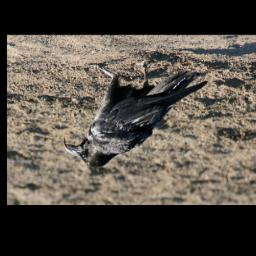Crow: (63, 54, 209, 170)
